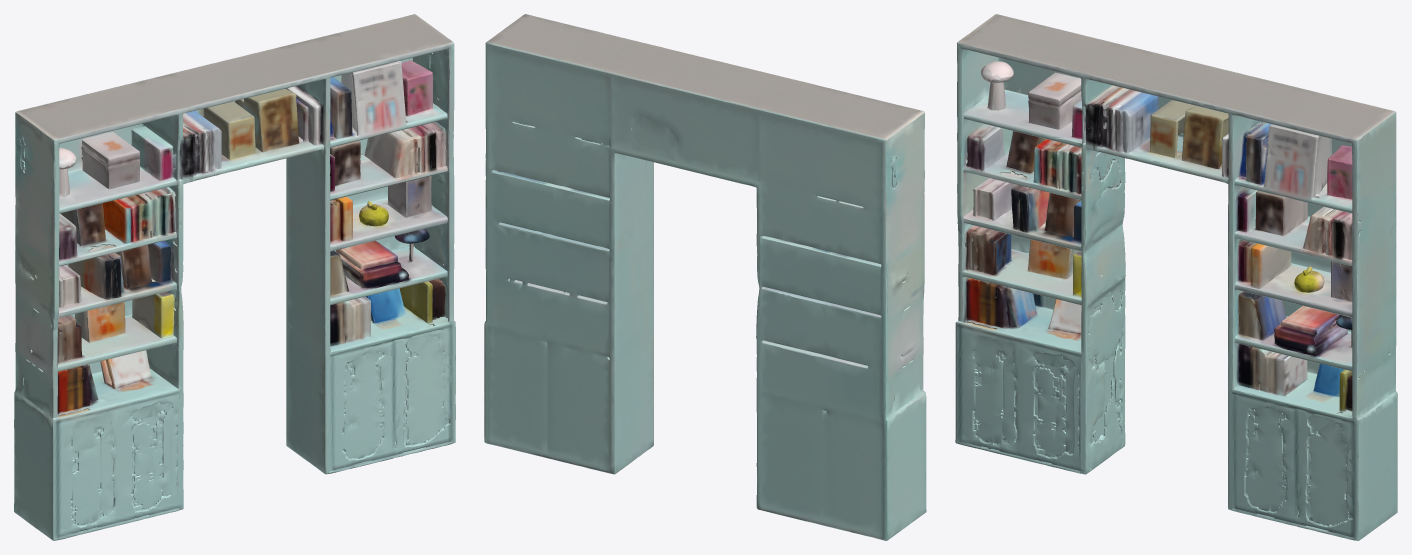
Rendered from item_216b219c.glb.
The picture shows the model from 3 angles, left to right: view 1: azimuth 30°, elevation 25°; view 2: azimuth 150°, elevation 25°; view 3: azimuth 330°, elevation 25°; orthographic projection.
Parts seen in each view (by area): view 1: world; view 2: world; view 3: world.
Part boxes in pixels (<box>): world: <box>14,14,455,540</box>; world: <box>484,14,926,540</box>; world: <box>955,14,1397,540</box>.
Bounding box in the file's own units: 2.4 × 2.28 × 0.4147.
1 material, 1 textured.
